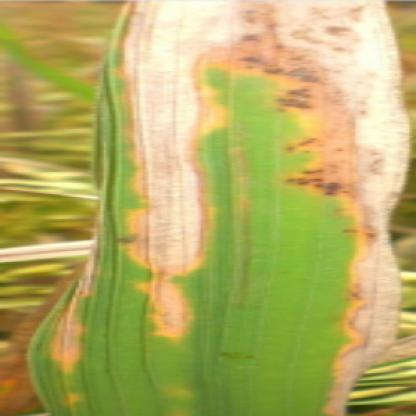Blight: (117, 1, 413, 416)
